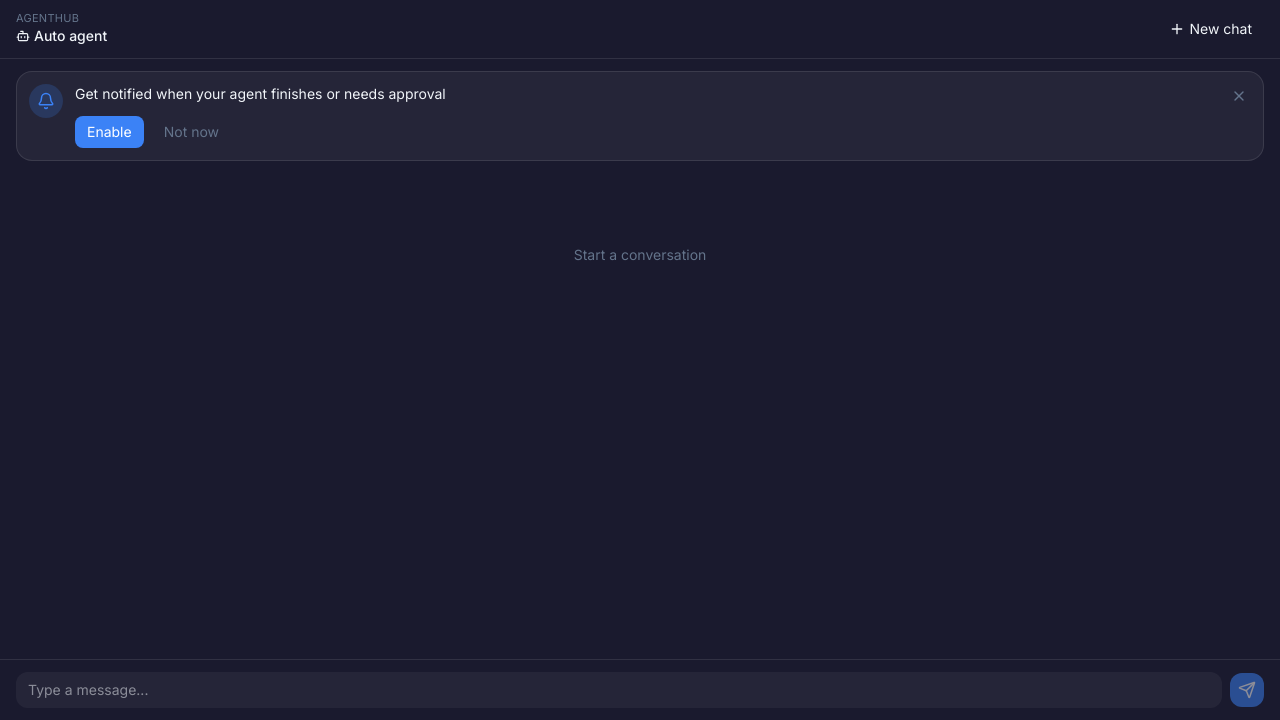
Test: MobileChat › sends a text message and renders streaming assistant reply
The width and height of the screenshot is (1280, 720).
In the field with placeholder "Type a message...": (619, 690) [16,672,1222,708], type "oi"
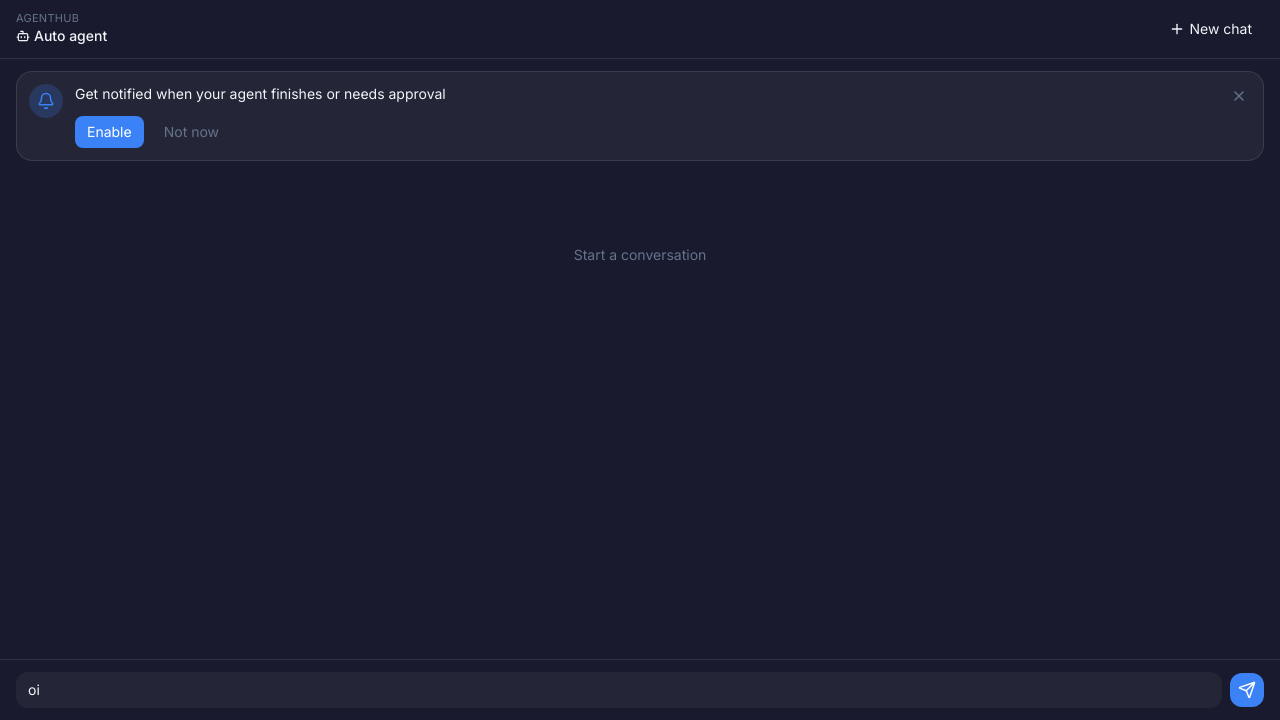
Click the button named "Send message": (1247, 690) [1230,673,1264,707]
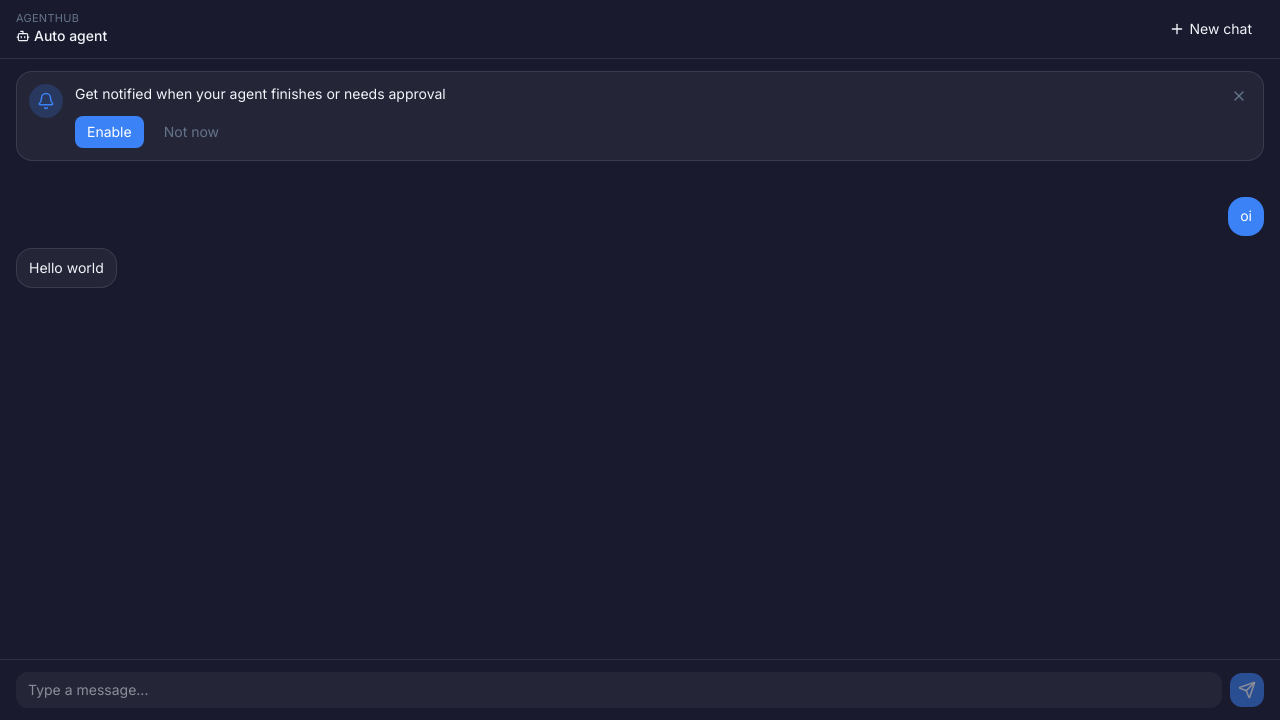
Result: the text "oi" is shown at [1240,205,1252,228]
Result: the text "Hello world" is shown at [29,256,104,279]
